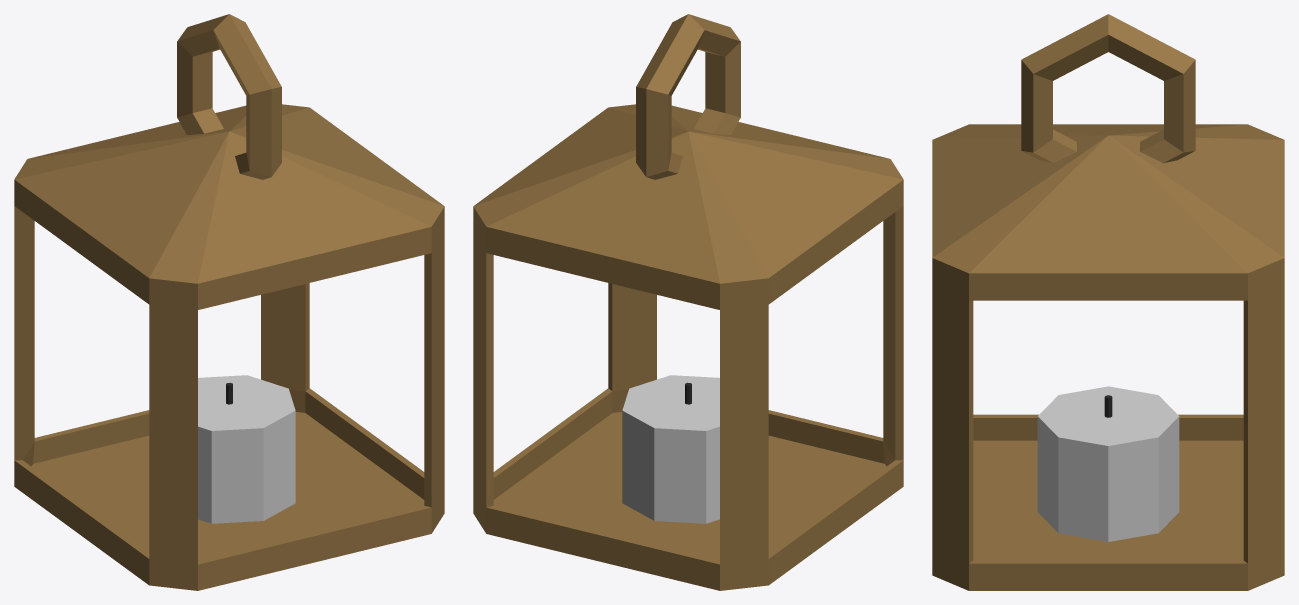
Rendered from lantern.dae.
3 renders of one model, left to right at view 1: azimuth 30°, elevation 25°; view 2: azimuth 150°, elevation 25°; view 3: azimuth 270°, elevation 25°, orthographic. The views are drawn at different scales.
Parts seen in each view (by area): view 1: Torus_000, Cylinder_001; view 2: Torus_000, Cylinder_001; view 3: Torus_000, Cylinder_001.
Part boxes in pixels (x1=…): Torus_000: x1=14, y1=14, x2=444, y2=590; Cylinder_001: x1=198, y1=375, x2=295, y2=523; Torus_000: x1=473, y1=14, x2=903, y2=590; Cylinder_001: x1=622, y1=375, x2=719, y2=523; Torus_000: x1=932, y1=14, x2=1284, y2=590; Cylinder_001: x1=1037, y1=386, x2=1179, y2=541.
Bounding box in the file's own units: 2 × 2 × 3.54.
